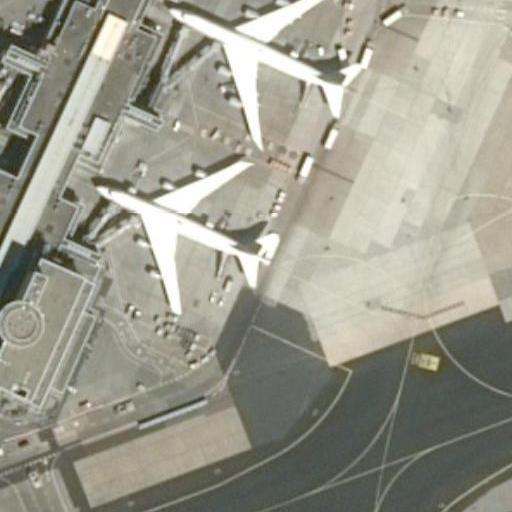Aircraft: (88, 149, 284, 318), (155, 0, 371, 151)
